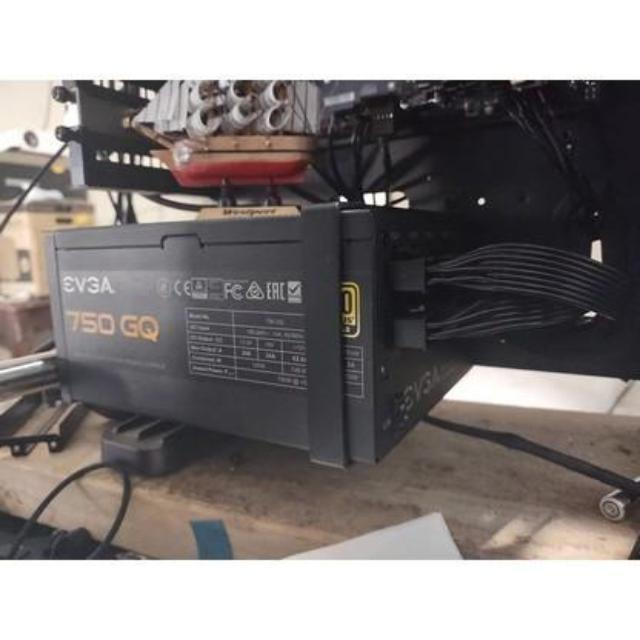PSU: (40, 200, 492, 483)
